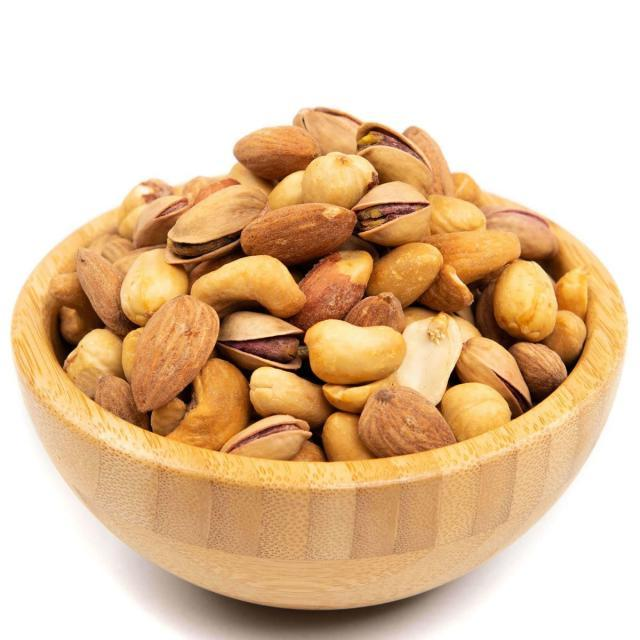Frutta secca: (65, 105, 594, 463)
